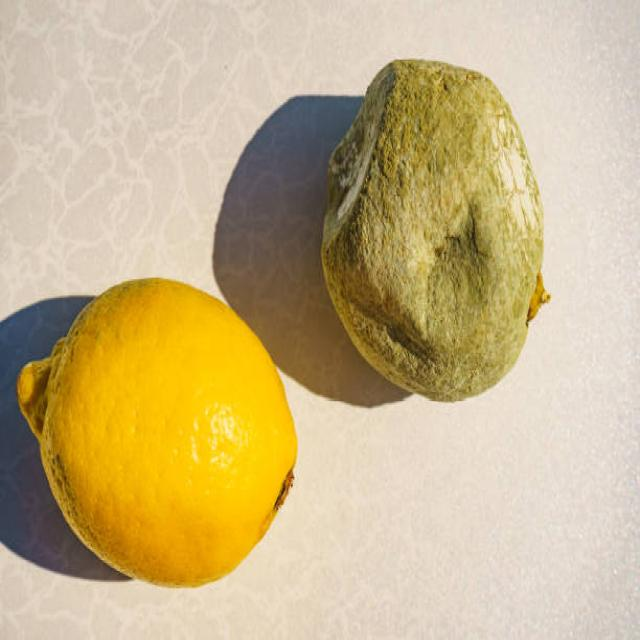Ripe: (13, 278, 299, 590)
Rotten: (319, 54, 551, 404)
